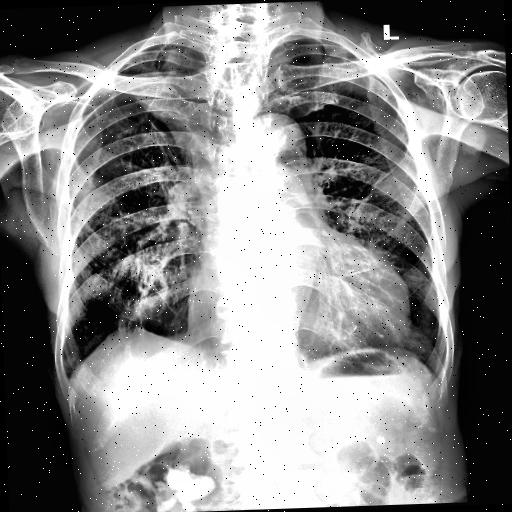0- Aortic enlargement: (242, 113, 312, 182), (242, 114, 304, 172), (242, 114, 304, 168)
1- Atelectasis: (73, 116, 195, 316)
10- Pleural effusion: (424, 366, 448, 386), (428, 364, 444, 390)
11- Pleural thickening: (424, 366, 448, 386), (428, 364, 444, 390)
13- Pulmonary fibrosis: (86, 82, 204, 334), (73, 116, 195, 316), (110, 243, 168, 335), (118, 104, 180, 176), (356, 149, 410, 208), (363, 157, 412, 204), (361, 158, 400, 210)
3- Cardiomegaly: (183, 258, 412, 360), (182, 280, 414, 366), (183, 272, 413, 356)
4- Consolidation: (132, 65, 210, 166)
7- Lung Opacity: (132, 65, 210, 166)
9- Other lesion: (110, 320, 148, 346)
